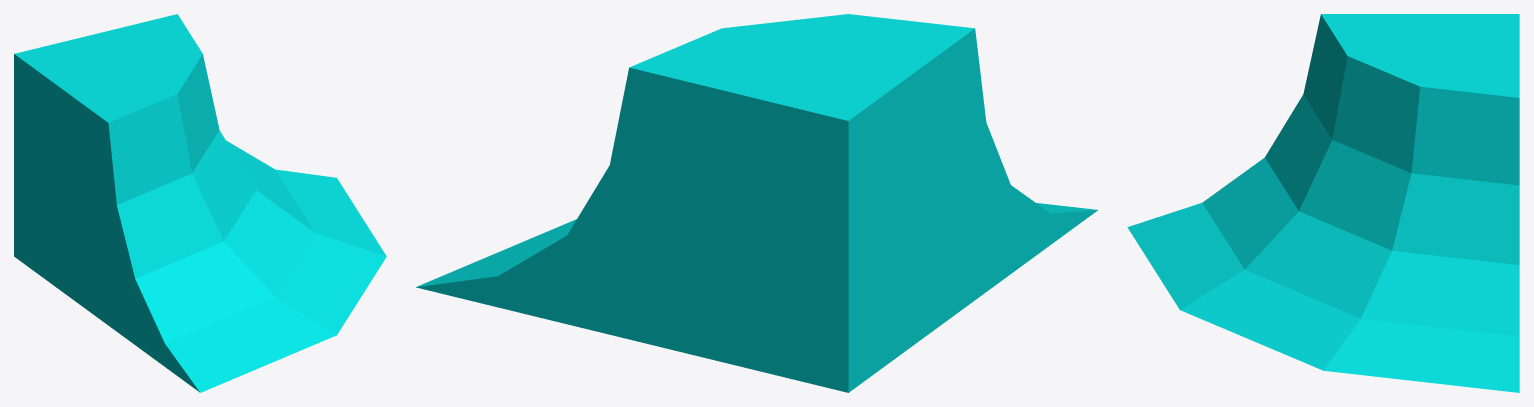
File: SM_Env_Ramp_Curve_L_01_Collision.fbx
3 renders of one model, left to right at view 1: azimuth 30°, elevation 25°; view 2: azimuth 150°, elevation 25°; view 3: azimuth 270°, elevation 25°, orthographic. The views are drawn at different scales.
Parts seen in each view (by area): view 1: SM_Env_Ramp_Curve_L_01_Collision; view 2: SM_Env_Ramp_Curve_L_01_Collision; view 3: SM_Env_Ramp_Curve_L_01_Collision.
Part boxes in pixels (x1,y1,x2,y2): SM_Env_Ramp_Curve_L_01_Collision: [14, 14, 386, 392]; SM_Env_Ramp_Curve_L_01_Collision: [416, 14, 1097, 392]; SM_Env_Ramp_Curve_L_01_Collision: [1127, 14, 1519, 392].
Size of the model in its own units: 250 by 150 by 250.
